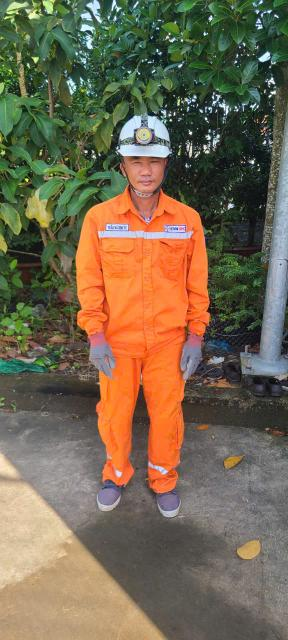gloves: (173, 319, 224, 394), (83, 329, 125, 380)
helmet: (114, 100, 177, 166)
shoes: (88, 465, 134, 520), (138, 483, 193, 525)
